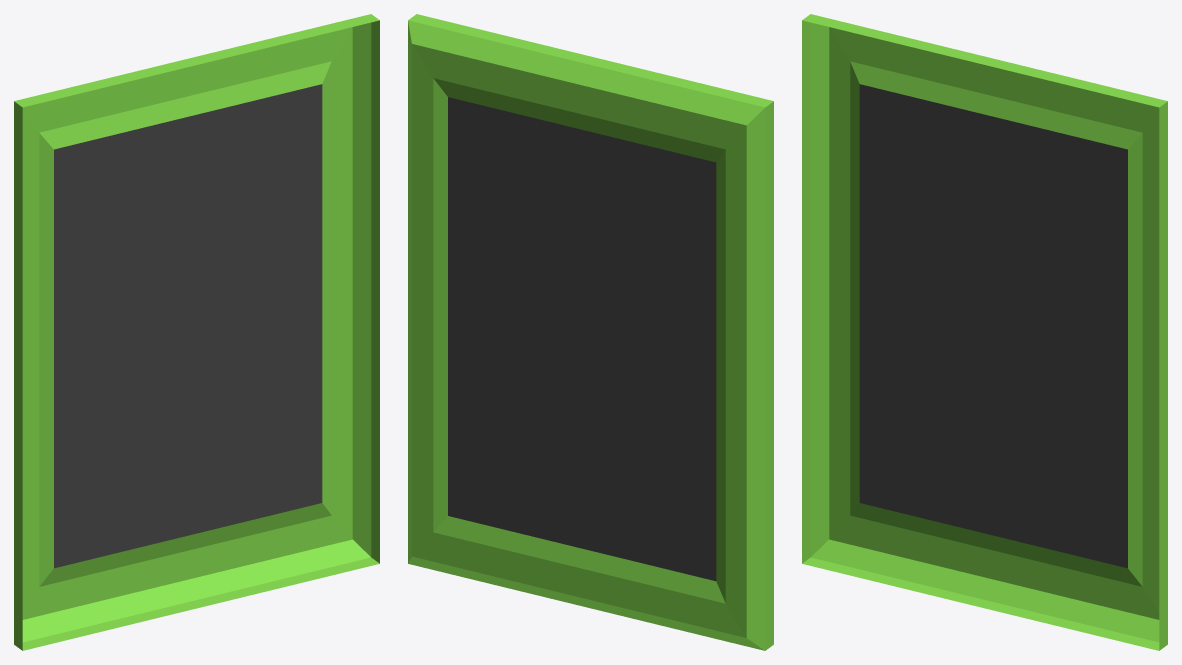
File: Frame.fbx
3 renders of one model, left to right at view 1: azimuth 30°, elevation 25°; view 2: azimuth 150°, elevation 25°; view 3: azimuth 330°, elevation 25°, orthographic.
Parts seen in each view (by area): view 1: Frame; view 2: Frame; view 3: Frame.
Part boxes in pixels (bbox=[...]): Frame: bbox=[14, 14, 379, 650]; Frame: bbox=[408, 14, 773, 650]; Frame: bbox=[802, 14, 1167, 650].
Bounding box in the file's own units: 262 × 381 × 20.28.
